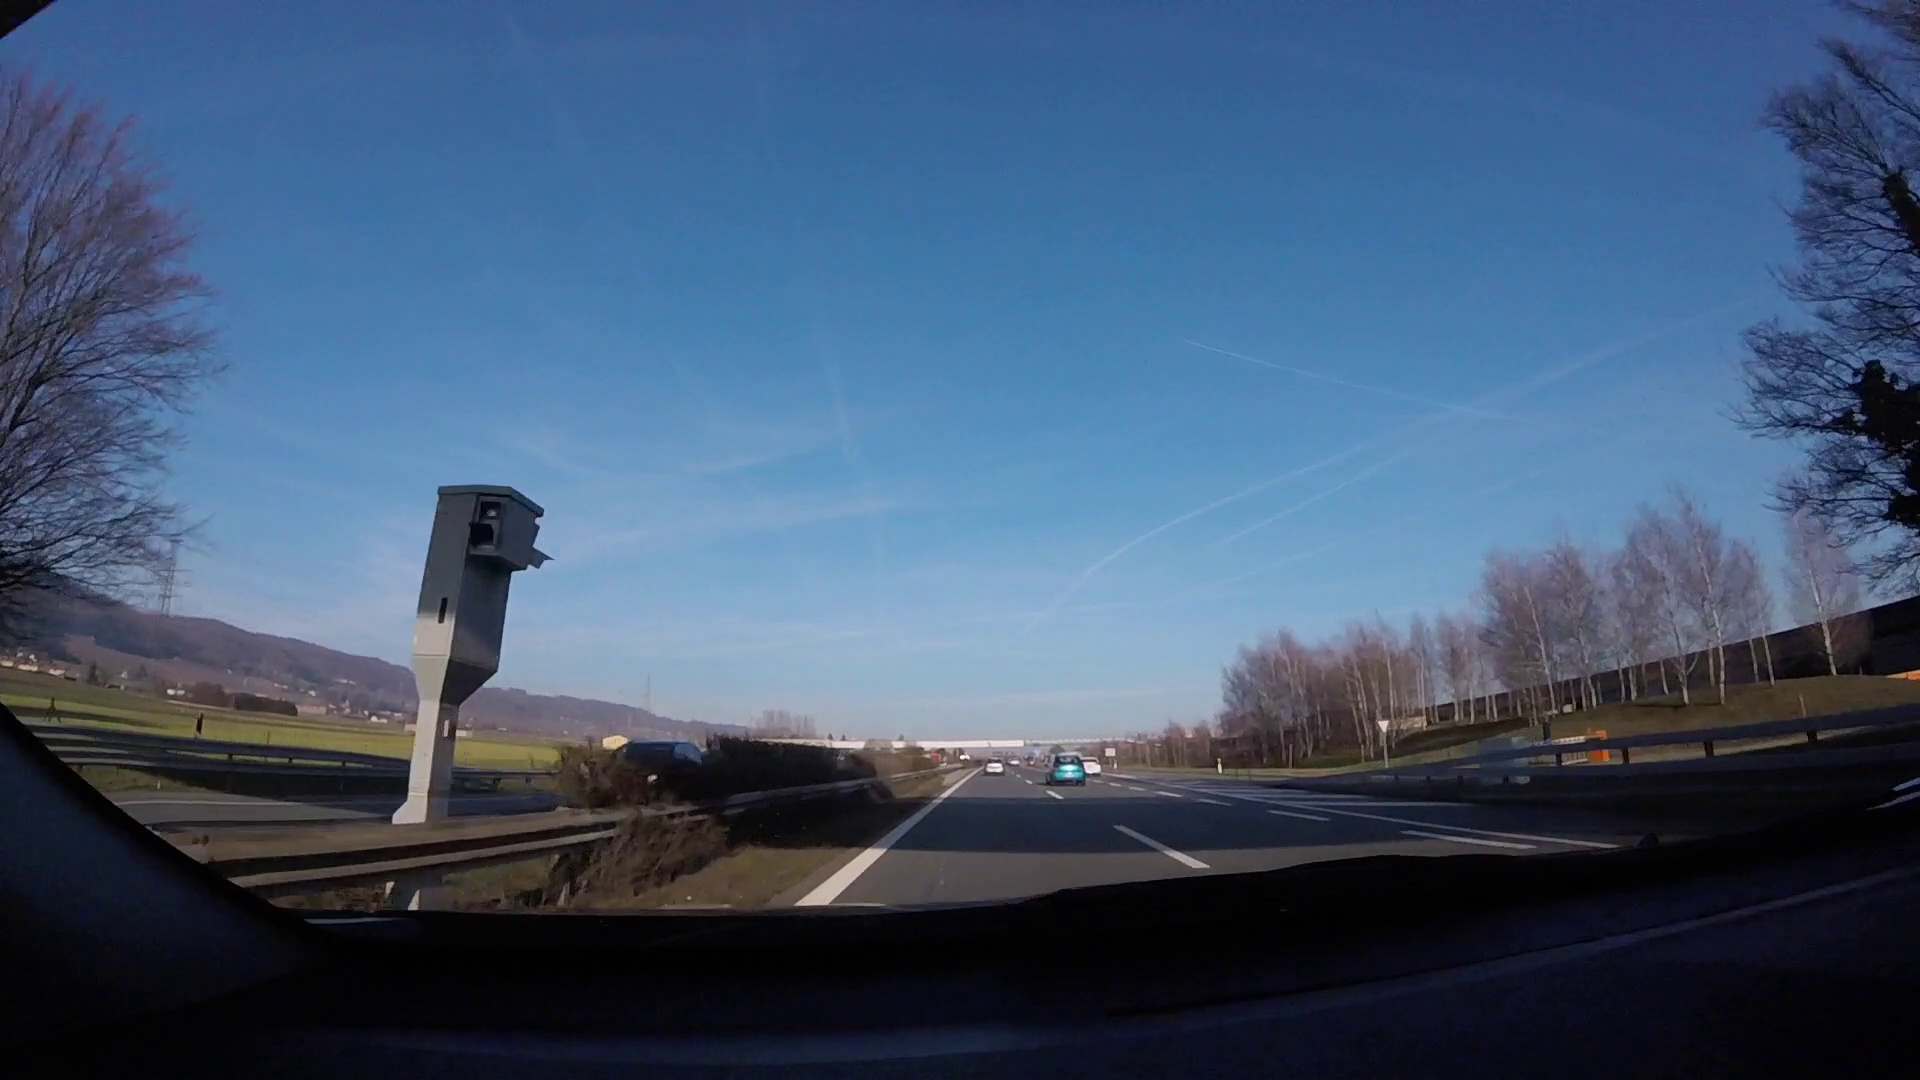radar: (407, 484, 558, 802)
